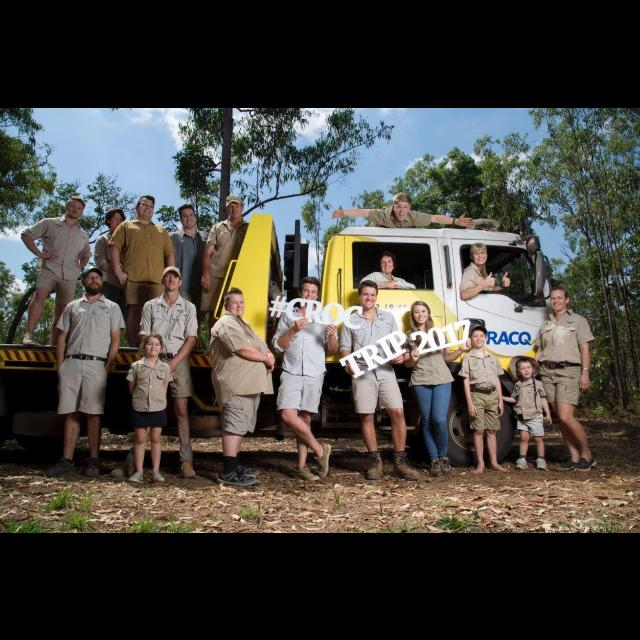head: (357, 278, 379, 310), (81, 265, 105, 293), (392, 192, 412, 222), (160, 266, 182, 292), (223, 290, 245, 316), (298, 279, 320, 305), (135, 194, 155, 220), (65, 195, 85, 219), (143, 333, 163, 357), (411, 300, 431, 324), (469, 242, 489, 266), (469, 324, 489, 348), (550, 286, 570, 310), (179, 203, 197, 229), (106, 207, 125, 230), (226, 195, 244, 218), (516, 358, 536, 378), (380, 252, 396, 274)
person: (109, 264, 201, 481), (42, 264, 128, 478), (338, 278, 424, 482), (270, 274, 342, 482), (208, 285, 276, 487), (402, 299, 472, 477), (19, 193, 92, 359), (533, 284, 597, 473), (107, 193, 177, 355), (200, 193, 262, 361), (330, 190, 476, 252), (459, 242, 531, 364), (163, 202, 217, 356), (458, 322, 512, 474), (125, 331, 175, 484), (93, 206, 145, 352), (496, 358, 554, 472), (358, 250, 418, 358)
